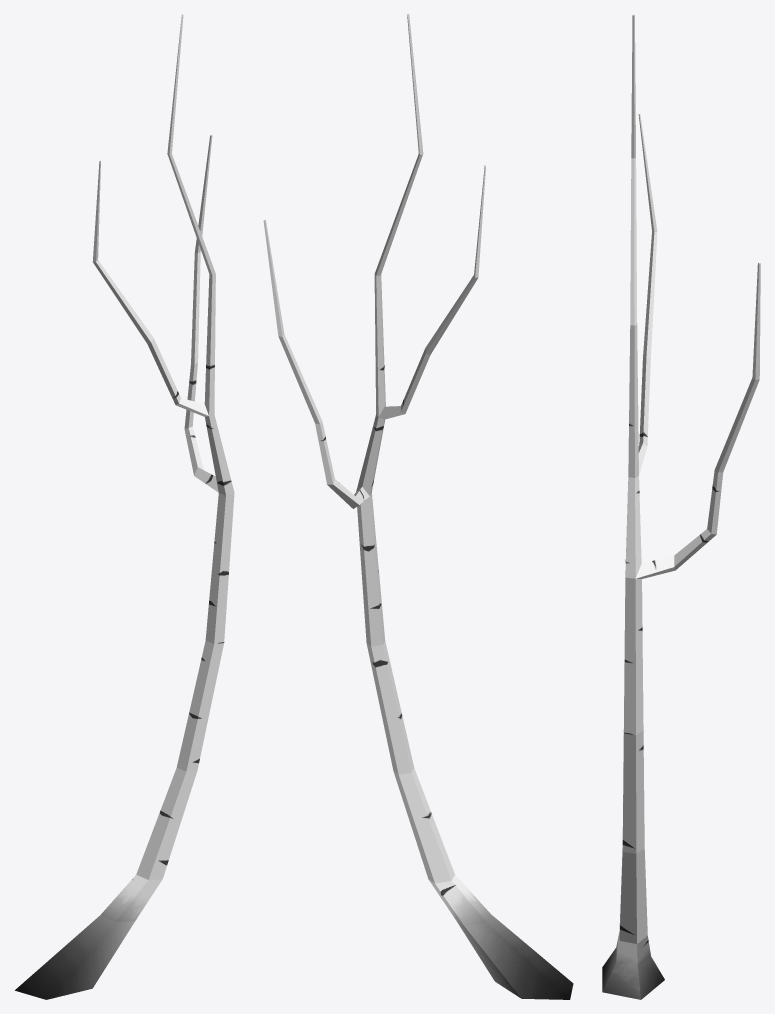
Rendered from Birch_Tree_NoLeaves_l_04.fbx.
The picture shows the model from 3 angles, left to right: view 1: azimuth 30°, elevation 25°; view 2: azimuth 150°, elevation 25°; view 3: azimuth 270°, elevation 25°; orthographic projection. The views are drawn at different scales.
Parts seen in each view (by area): view 1: Birch_Tree_NoLeaves_l_04; view 2: Birch_Tree_NoLeaves_l_04; view 3: Birch_Tree_NoLeaves_l_04.
Part boxes in pixels (bbox=[...]): Birch_Tree_NoLeaves_l_04: bbox=[15, 14, 234, 999]; Birch_Tree_NoLeaves_l_04: bbox=[263, 14, 573, 999]; Birch_Tree_NoLeaves_l_04: bbox=[602, 14, 760, 999].
Size of the model in its own units: 331 by 1180 by 164.
